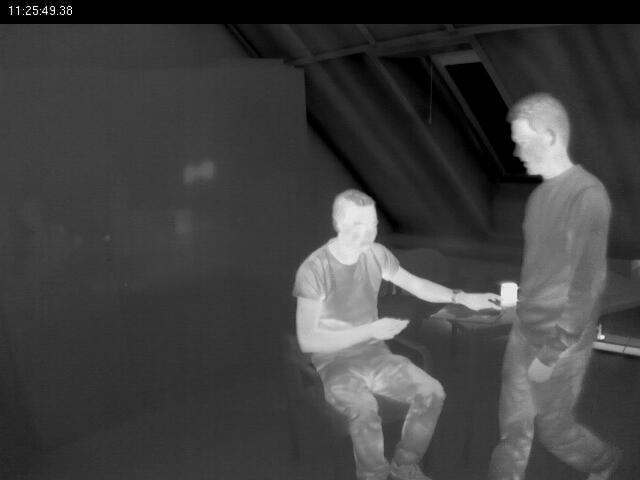person: (291, 189, 500, 480), (491, 73, 622, 475)
